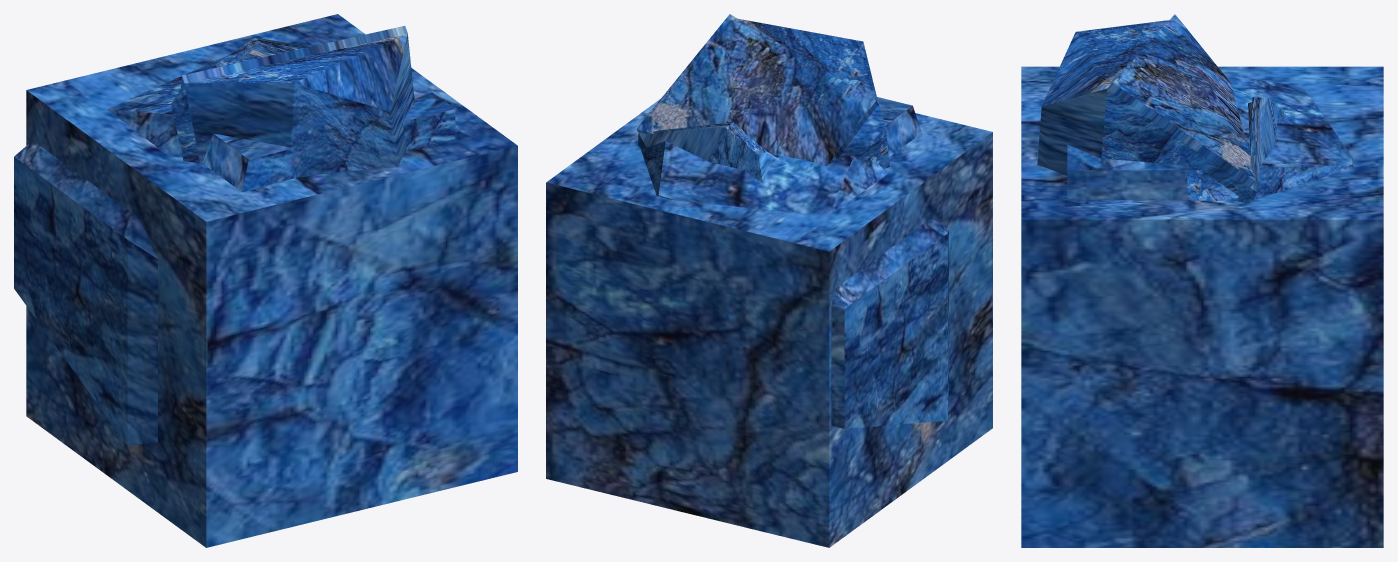
File: texturedrock3.glb
3 views of the same model, side by side, from view 1: azimuth 30°, elevation 25°; view 2: azimuth 150°, elevation 25°; view 3: azimuth 270°, elevation 25° (orthographic). The views are drawn at different scales.
Parts seen in each view (by area): view 1: Cube, Cube.001; view 2: Cube, Cube.001; view 3: Cube, Cube.001.
Part boxes in pixels (<box>): Cube: <box>26,14,517,547</box>; Cube.001: <box>14,55,455,445</box>; Cube: <box>546,14,992,547</box>; Cube.001: <box>640,97,948,428</box>; Cube: <box>1021,14,1383,547</box>; Cube.001: <box>1067,74,1353,201</box>.
Size of the model in its own units: 2.09 by 2.63 by 2.
1 material, 1 textured.
